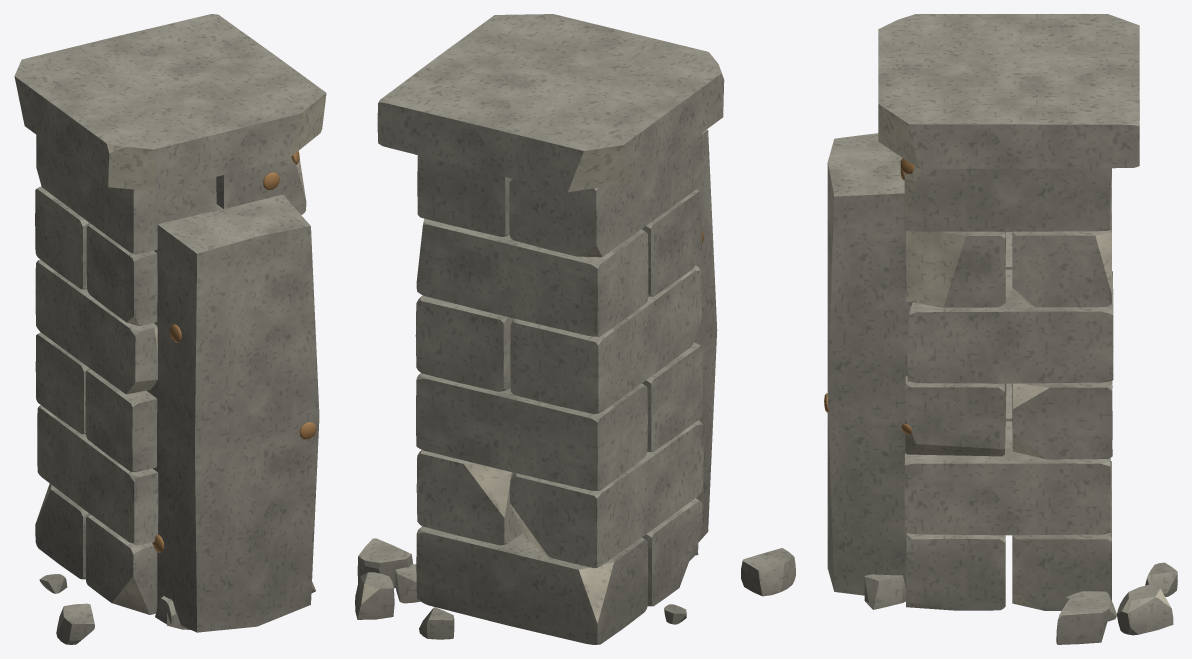
3 views of the same model, side by side, from view 1: azimuth 30°, elevation 25°; view 2: azimuth 150°, elevation 25°; view 3: azimuth 270°, elevation 25° (orthographic). The views are drawn at different scales.
Parts seen in each view (by area): view 1: weathered mineral, fresh chipped mineral, peened pin; view 2: weathered mineral, fresh chipped mineral; view 3: weathered mineral, fresh chipped mineral.
Boxes of the visible parts, bbox=[...] form: weathered mineral: bbox=[14, 14, 325, 644]; fresh chipped mineral: bbox=[36, 93, 326, 614]; peened pin: bbox=[152, 172, 316, 552]; weathered mineral: bbox=[355, 14, 795, 644]; fresh chipped mineral: bbox=[361, 67, 723, 623]; weathered mineral: bbox=[827, 14, 1177, 644]; fresh chipped mineral: bbox=[865, 104, 1171, 619].
Size of the model in its own units: 0.9249 by 1.35 by 0.8662.
Materials: 3 (2 with a texture image).
